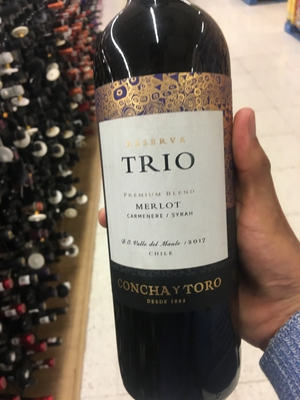trio merlot: (91, 17, 256, 400)
